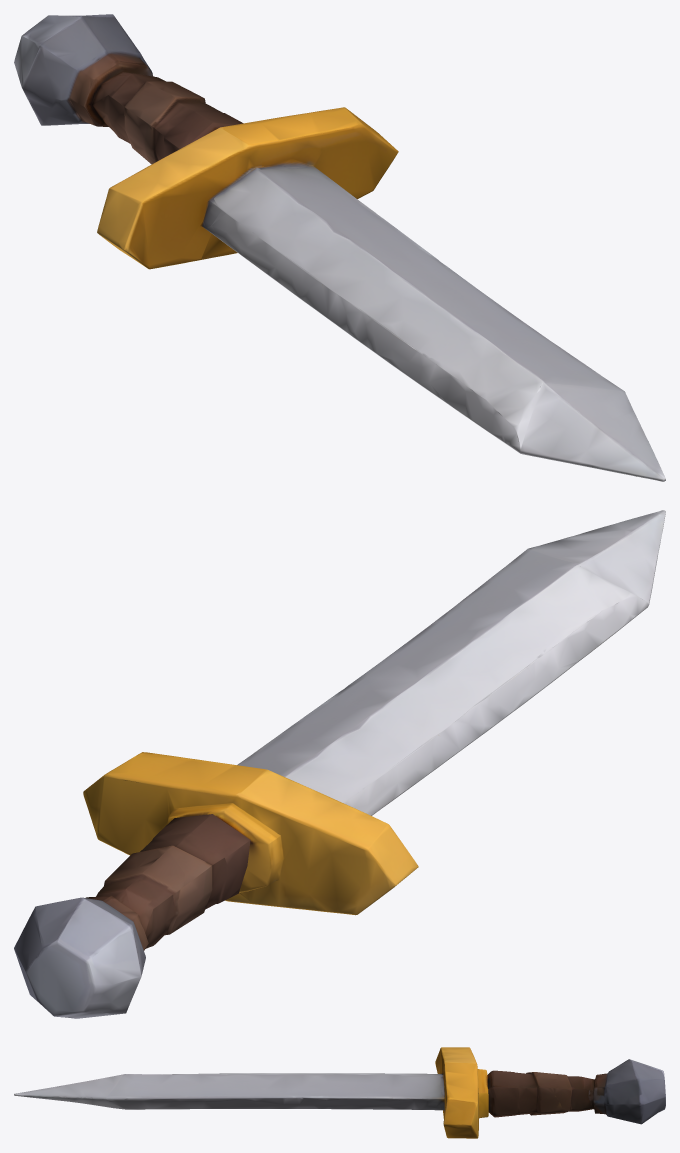
Rendered from sword.glb.
3 renders of one model, top to bottom at view 1: azimuth 30°, elevation 25°; view 2: azimuth 150°, elevation 25°; view 3: azimuth 270°, elevation 25°, orthographic. The views are drawn at different scales.
Visible parts, largest first — view 1: Sword; view 2: Sword; view 3: Sword.
Part boxes in pixels (x1,y1,x2,y2): Sword: (14,14,665,481); Sword: (14,510,665,1018); Sword: (14,1047,665,1138).
Size of the model in its own units: 0.359 by 0.1324 by 1.29.
1 material, 1 textured.
